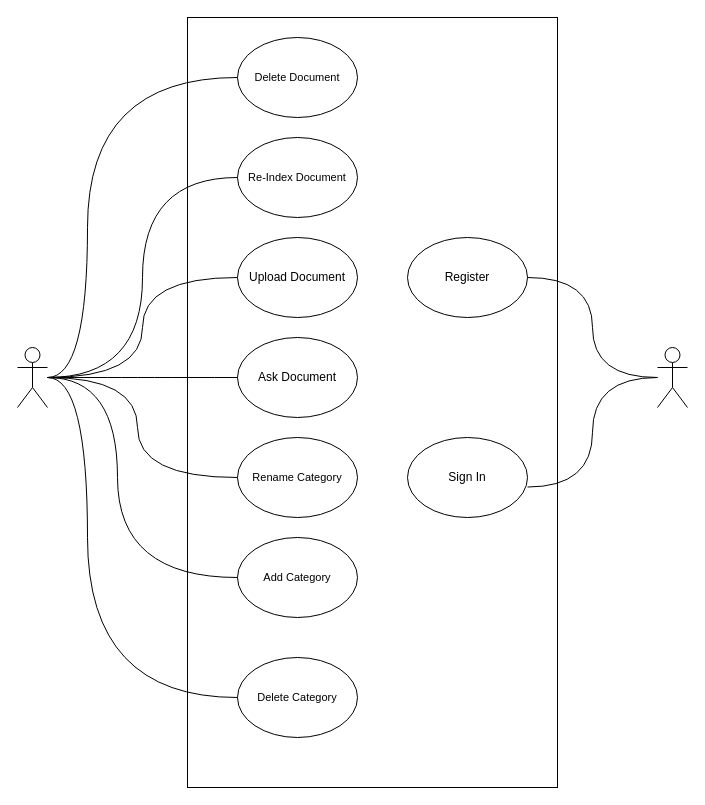
The diagram is 705 pixels wide and 805 high, and some of its shapes have lost their labels. Each missing label, with the centre of its shape:
Guest: [672,377]
User: [32,377]
